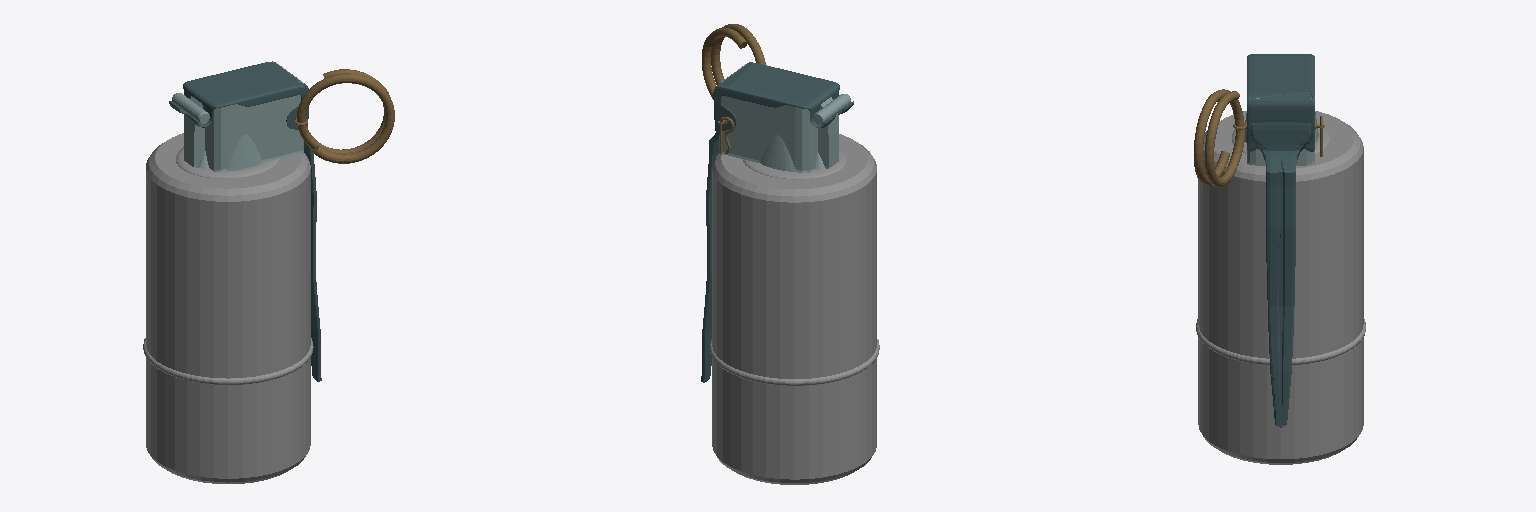
3 renders of one model, left to right at view 1: azimuth 30°, elevation 25°; view 2: azimuth 150°, elevation 25°; view 3: azimuth 270°, elevation 25°, orthographic.
Parts seen in each view (by area): view 1: Container, Cap, Release, Pin_Grip; view 2: Container, Cap, Release, Pin_Grip; view 3: Container, Release, Pin_Grip, Cap.
Boxes of the visible parts, x1=… form: Container: x1=143, y1=133, x2=313, y2=483; Cap: x1=172, y1=62, x2=303, y2=171; Release: x1=169, y1=61, x2=321, y2=381; Pin_Grip: x1=297, y1=69, x2=394, y2=163; Container: x1=709, y1=134, x2=879, y2=484; Cap: x1=719, y1=64, x2=850, y2=172; Release: x1=701, y1=62, x2=853, y2=382; Pin_Grip: x1=702, y1=24, x2=765, y2=98; Container: x1=1196, y1=111, x2=1365, y2=464; Release: x1=1247, y1=54, x2=1314, y2=427; Pin_Grip: x1=1194, y1=89, x2=1244, y2=186; Cap: x1=1245, y1=98, x2=1318, y2=165.
Size of the model in its own units: 106 by 191 by 78.25.